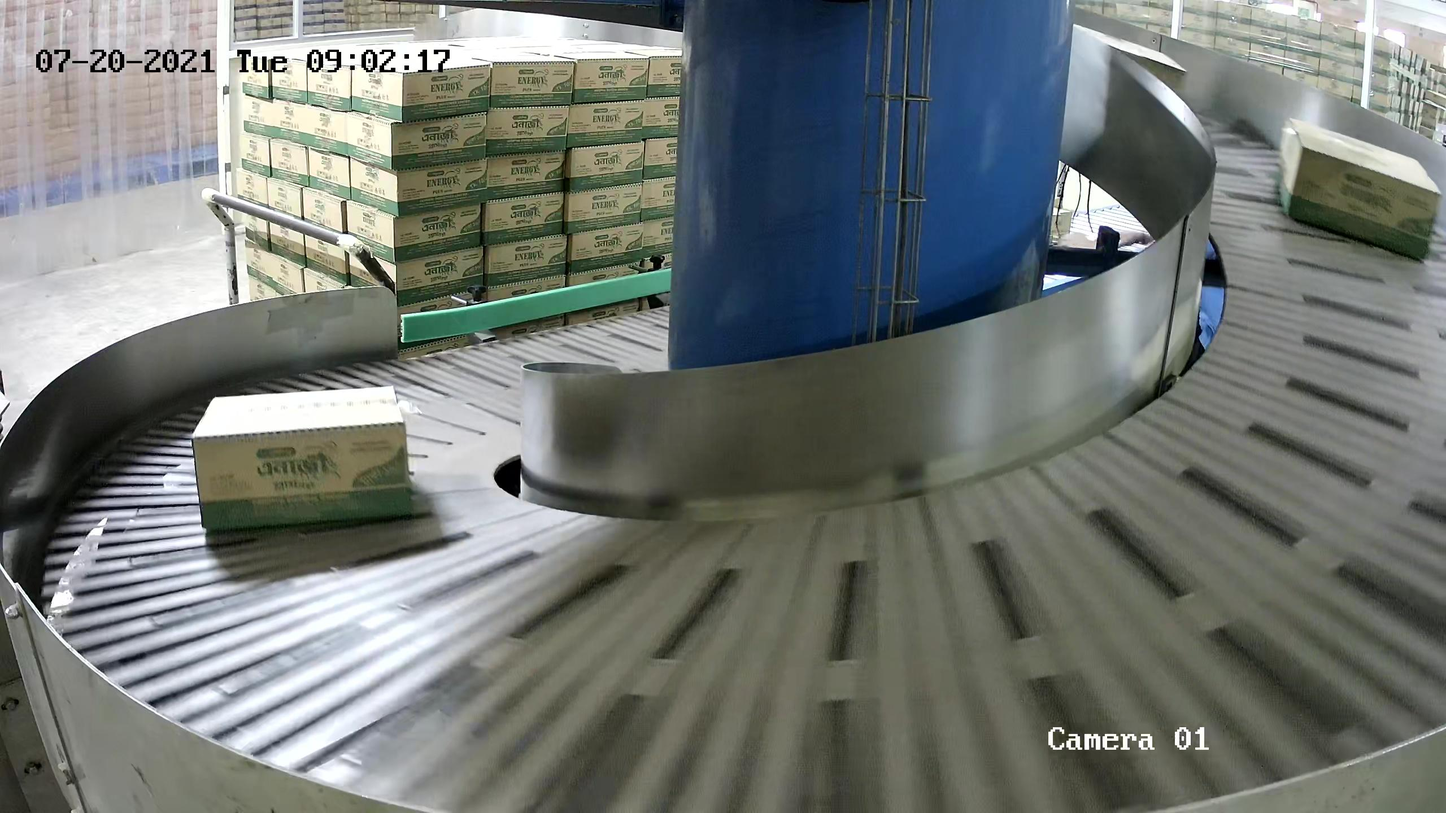Box: (191, 385, 416, 531), (1277, 117, 1442, 264)
